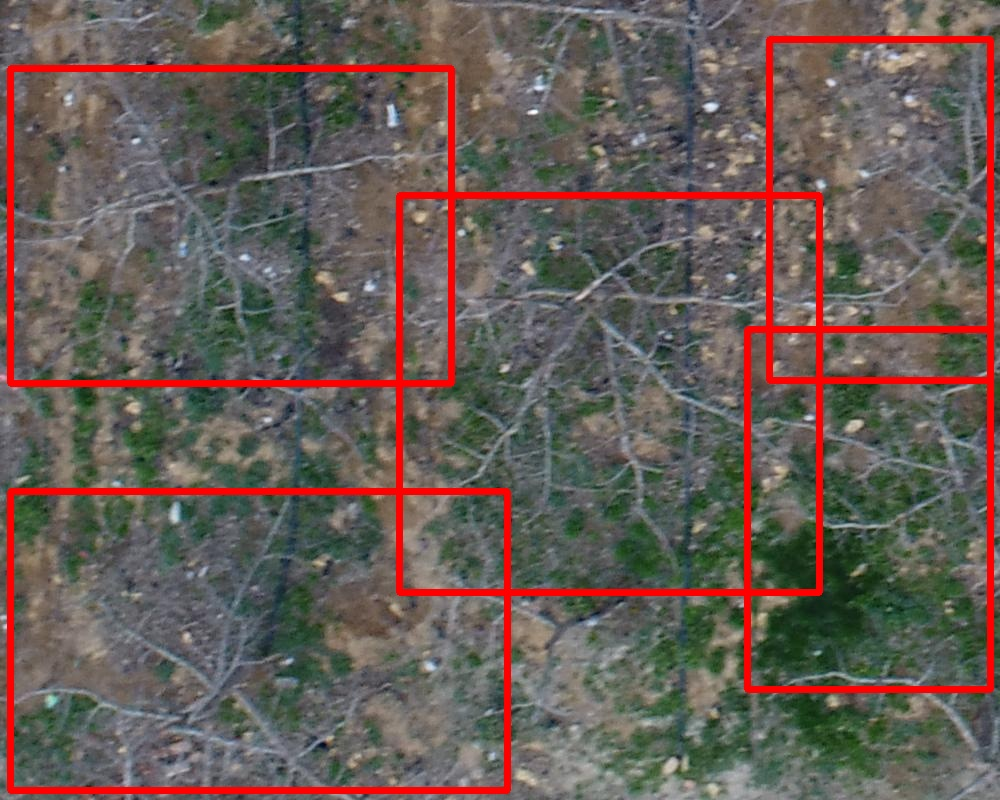apple: (399, 195, 819, 592), (10, 491, 507, 790), (10, 68, 451, 383), (747, 329, 990, 689), (769, 39, 990, 380)
